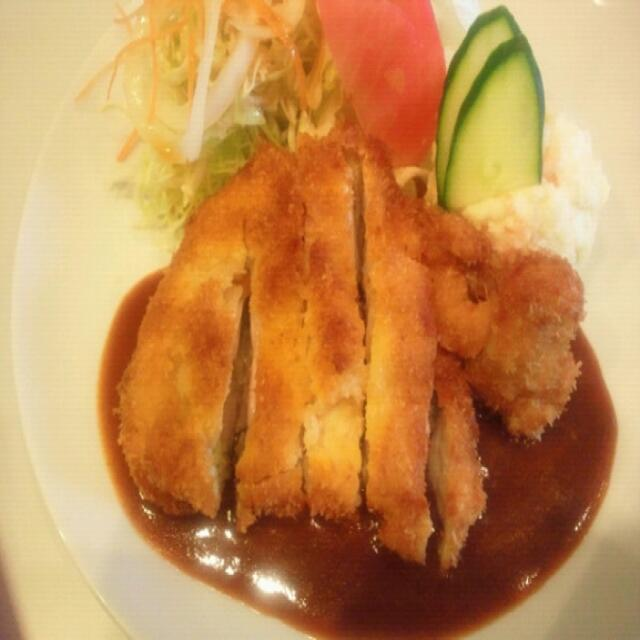鸡肉料理 含炸鸡: (70, 44, 623, 612)
